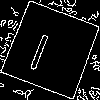I: (25, 24, 56, 72)
